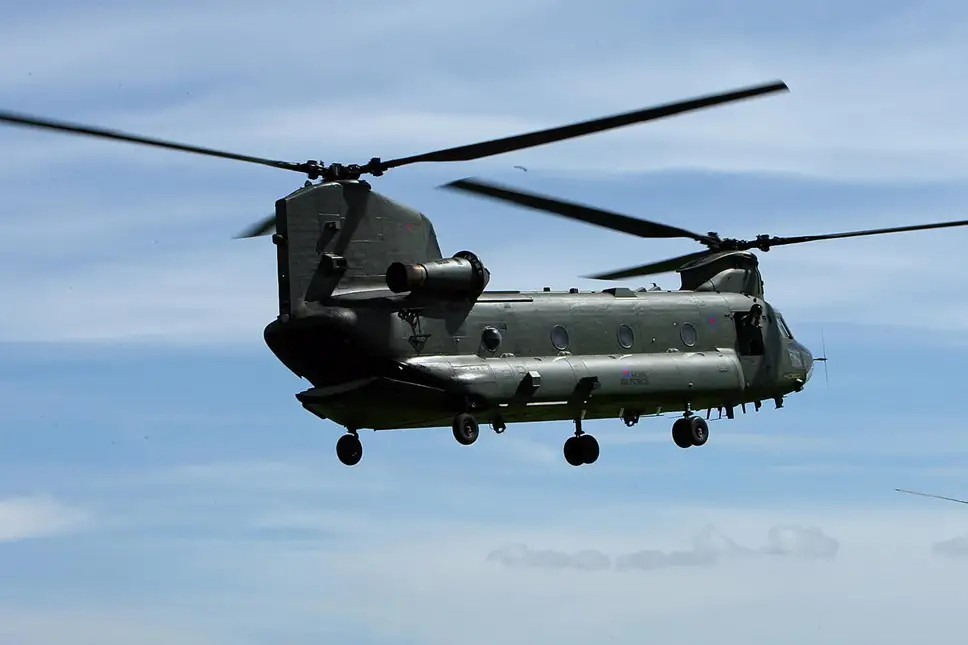chinook: (210, 124, 846, 461)
